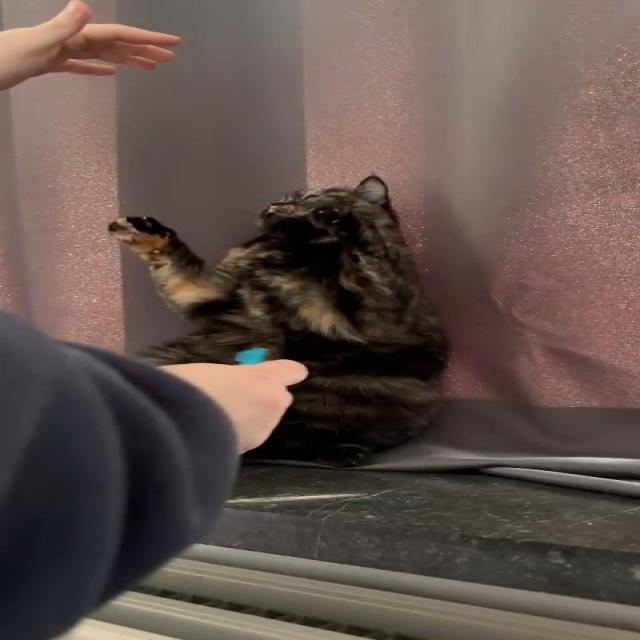authorized: (107, 173, 452, 468)
